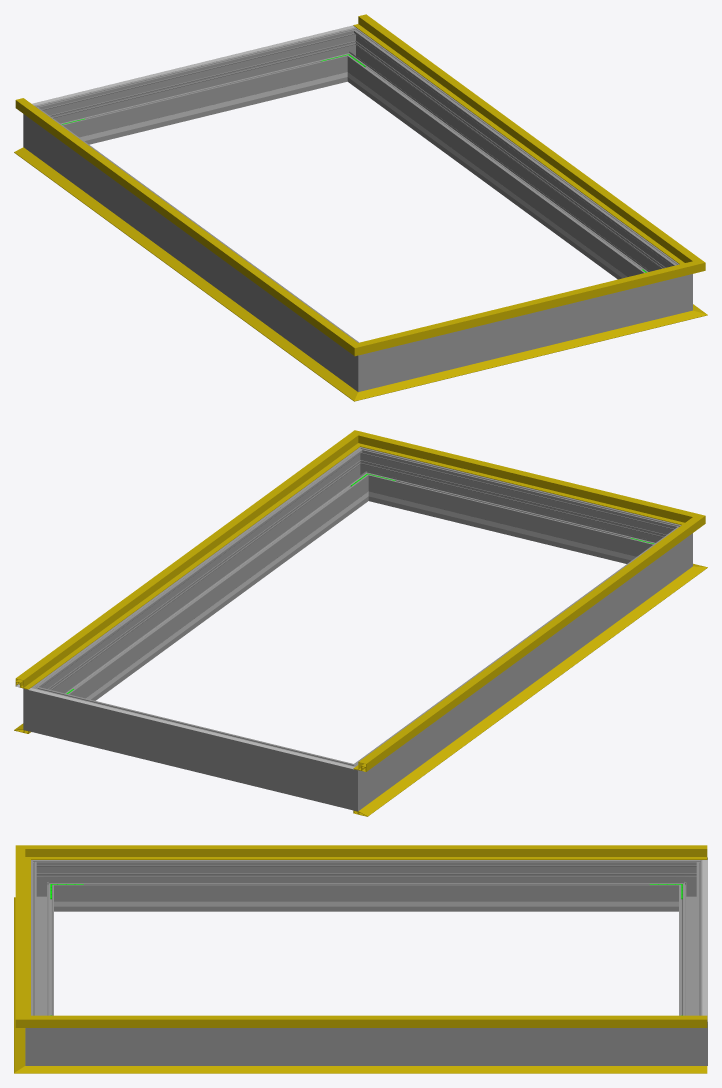
3 renders of one model, top to bottom at view 1: azimuth 30°, elevation 25°; view 2: azimuth 150°, elevation 25°; view 3: azimuth 270°, elevation 25°, orthographic.
Parts seen in each view (by area): view 1: 3DGeom-297, 3DGeom-276, 3DGeom-268, 3DGeom-298, 3DGeom-128, 3DGeom-118, 3DGeom-38, 3DGeom-123, 3DGeom-28, 3DGeom-270, 3DGeom-237, 3DGeom-244 (+5 smaller); view 2: 3DGeom-297, 3DGeom-298, 3DGeom-276, 3DGeom-268, 3DGeom-128, 3DGeom-118, 3DGeom-123, 3DGeom-38, 3DGeom-278, 3DGeom-237, 3DGeom-284, 3DGeom-239 (+4 smaller); view 3: 3DGeom-268, 3DGeom-297, 3DGeom-118, 3DGeom-128, 3DGeom-30, 3DGeom-232, 3DGeom-276, 3DGeom-298, 3DGeom-123, 3DGeom-284, 3DGeom-290, 3DGeom-278 (+6 smaller).
Part boxes in pixels (x1,y1,x2,y2): 3DGeom-297: (350, 38, 670, 279); 3DGeom-276: (55, 33, 342, 144); 3DGeom-268: (40, 116, 350, 379); 3DGeom-298: (387, 281, 663, 384); 3DGeom-128: (353, 14, 687, 260); 3DGeom-118: (15, 98, 345, 343); 3DGeom-38: (14, 147, 346, 388); 3DGeom-123: (380, 266, 675, 348); 3DGeom-28: (378, 315, 678, 394); 3DGeom-270: (341, 336, 387, 391); 3DGeom-237: (364, 84, 627, 278); 3DGeom-244: (90, 79, 318, 139); 3DGeom-297: (45, 457, 365, 700); 3DGeom-298: (373, 453, 660, 563); 3DGeom-276: (52, 692, 333, 804); 3DGeom-268: (365, 535, 675, 798); 3DGeom-128: (15, 442, 350, 689); 3DGeom-118: (353, 526, 688, 771); 3DGeom-123: (377, 437, 675, 521); 3DGeom-38: (353, 575, 690, 816); 3DGeom-278: (328, 755, 374, 811); 3DGeom-237: (86, 504, 351, 699); 3DGeom-284: (23, 677, 57, 736); 3DGeom-239: (397, 498, 625, 558); 3DGeom-268: (60, 860, 673, 911); 3DGeom-297: (60, 1028, 673, 1065); 3DGeom-118: (50, 845, 707, 859); 3DGeom-128: (50, 1015, 707, 1027); 3DGeom-30: (48, 1066, 707, 1073); 3DGeom-232: (87, 901, 645, 906); 3DGeom-276: (679, 872, 702, 1015); 3DGeom-298: (31, 872, 53, 1015); 3DGeom-123: (15, 860, 30, 1012); 3DGeom-284: (673, 1009, 707, 1065); 3DGeom-290: (25, 1009, 59, 1065); 3DGeom-278: (673, 857, 707, 911).
Bounding box in the file's own units: 1.83 × 0.2596 × 3.05.
